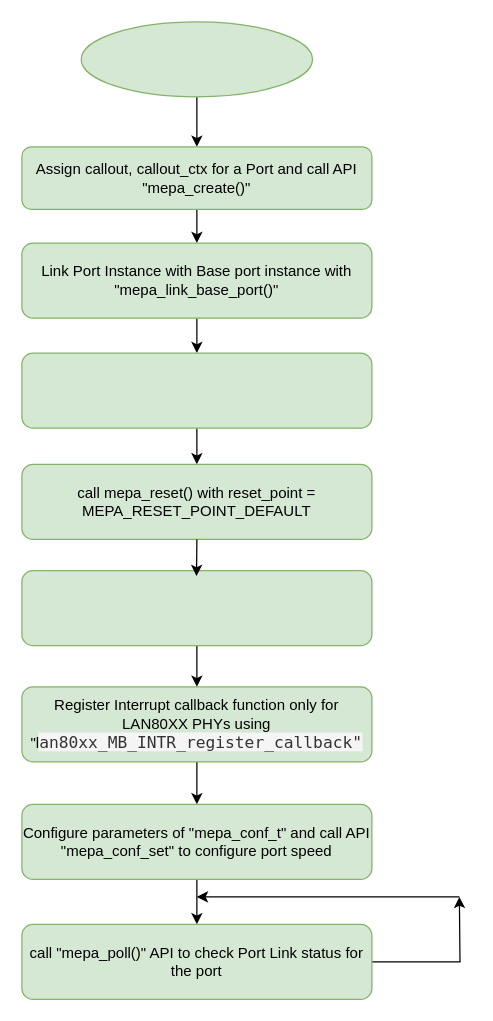
This 493x1021 diagram has some shape labels left out. The box of each missing label's shape, as (x1, y1, x2, y2) in pixels:
call mepa_reset() with reset_point = MEPA_RESET_POINT_POST: (21, 569, 372, 646)
call mepa_reset() with reset_point = MEPA_RESET_POINT_PRE: (21, 352, 372, 428)
START of Application: (80, 21, 312, 97)
